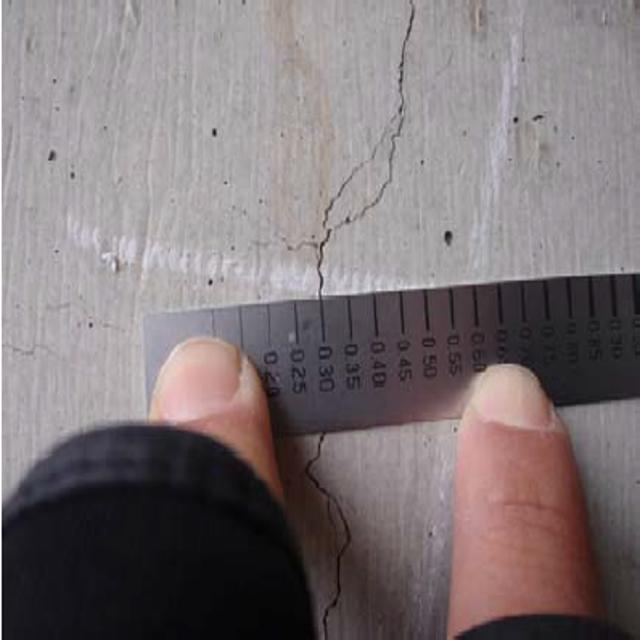crack: (276, 7, 440, 293), (290, 423, 374, 640)
